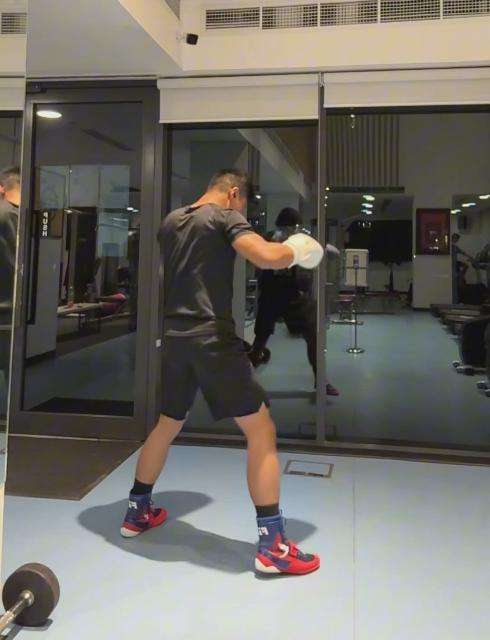punch: (119, 166, 327, 580)
